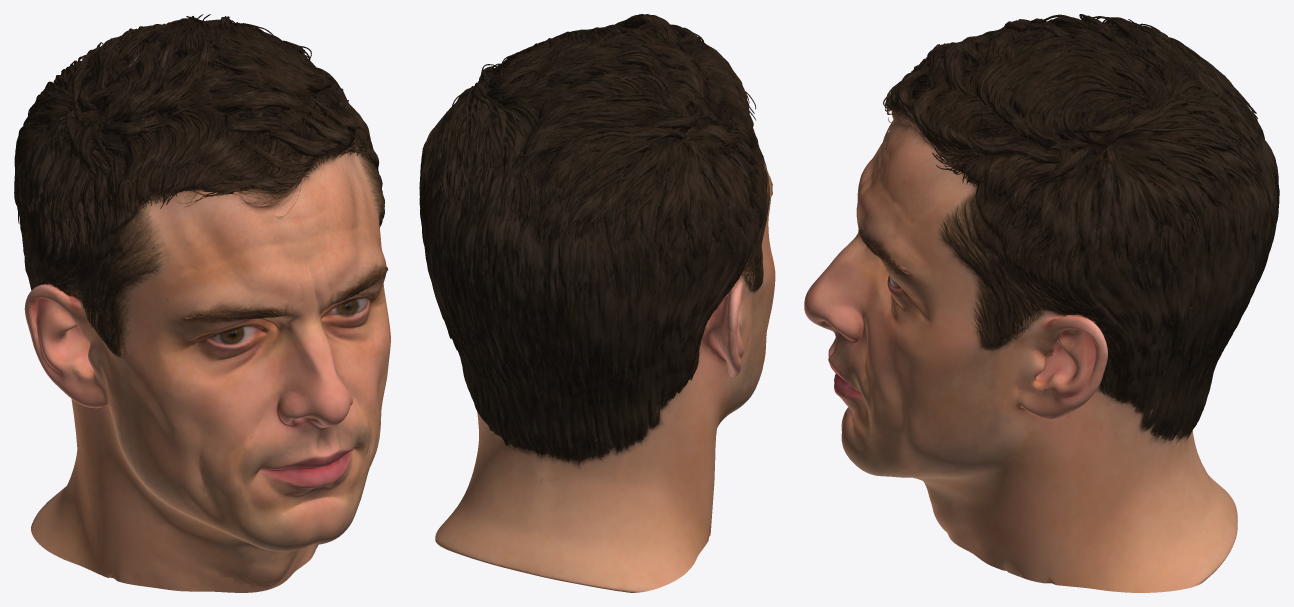
File: human-head-backup.glb
3 renders of one model, left to right at view 1: azimuth 30°, elevation 25°; view 2: azimuth 150°, elevation 25°; view 3: azimuth 270°, elevation 25°, orthographic. The views are drawn at different scales.
Visible parts, largest first — view 1: human-head; view 2: human-head; view 3: human-head.
Boxes of the visible parts, x1,y1,x2,y2 form: human-head: [14, 14, 390, 592]; human-head: [419, 14, 775, 592]; human-head: [804, 14, 1279, 592].
Size of the model in its own units: 0.1749 by 0.2629 by 0.2249.
Materials: 1 (1 with a texture image).
